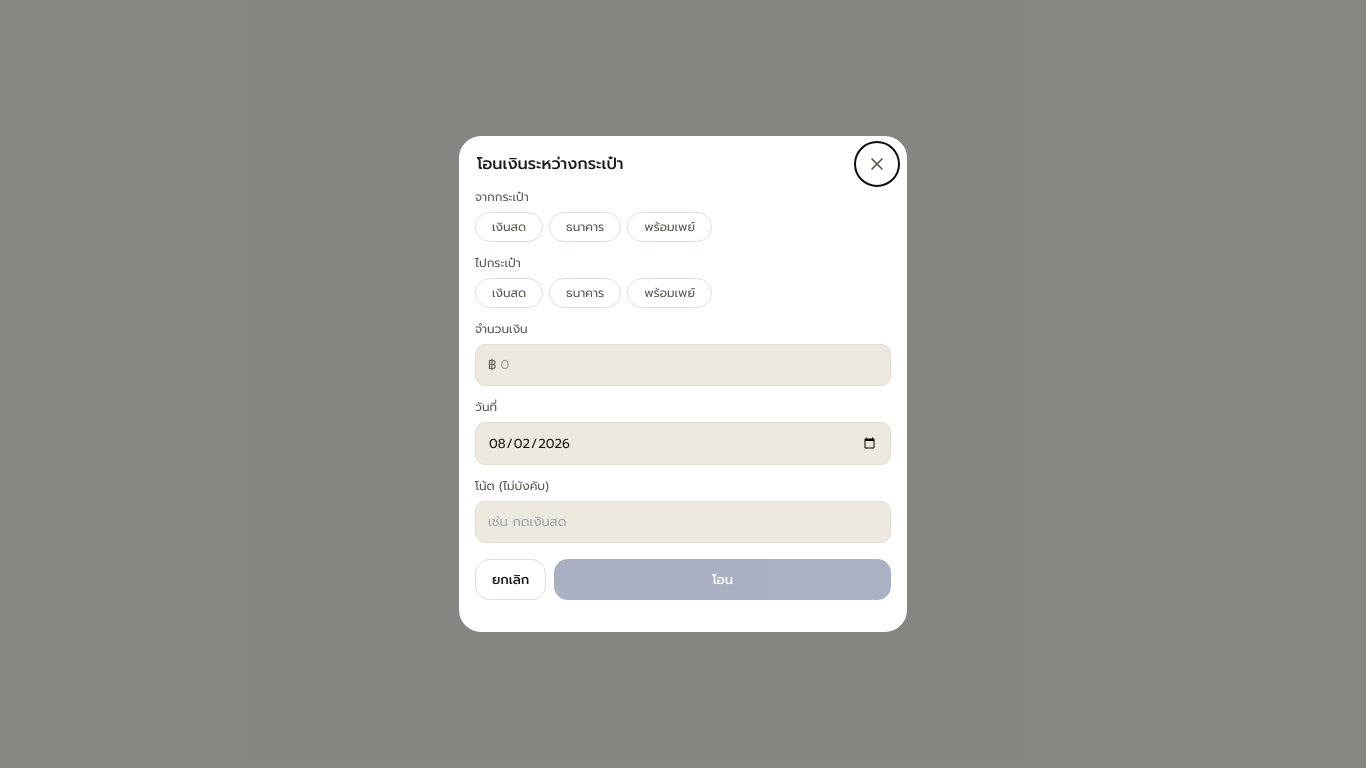
Test case: WalletTransferSheet — form › clears the destination if it becomes equal to a newly chosen source
Click the button "เงินสด" below "จากกระเป๋า". click: point(509, 227)
box: [475,212,543,242]
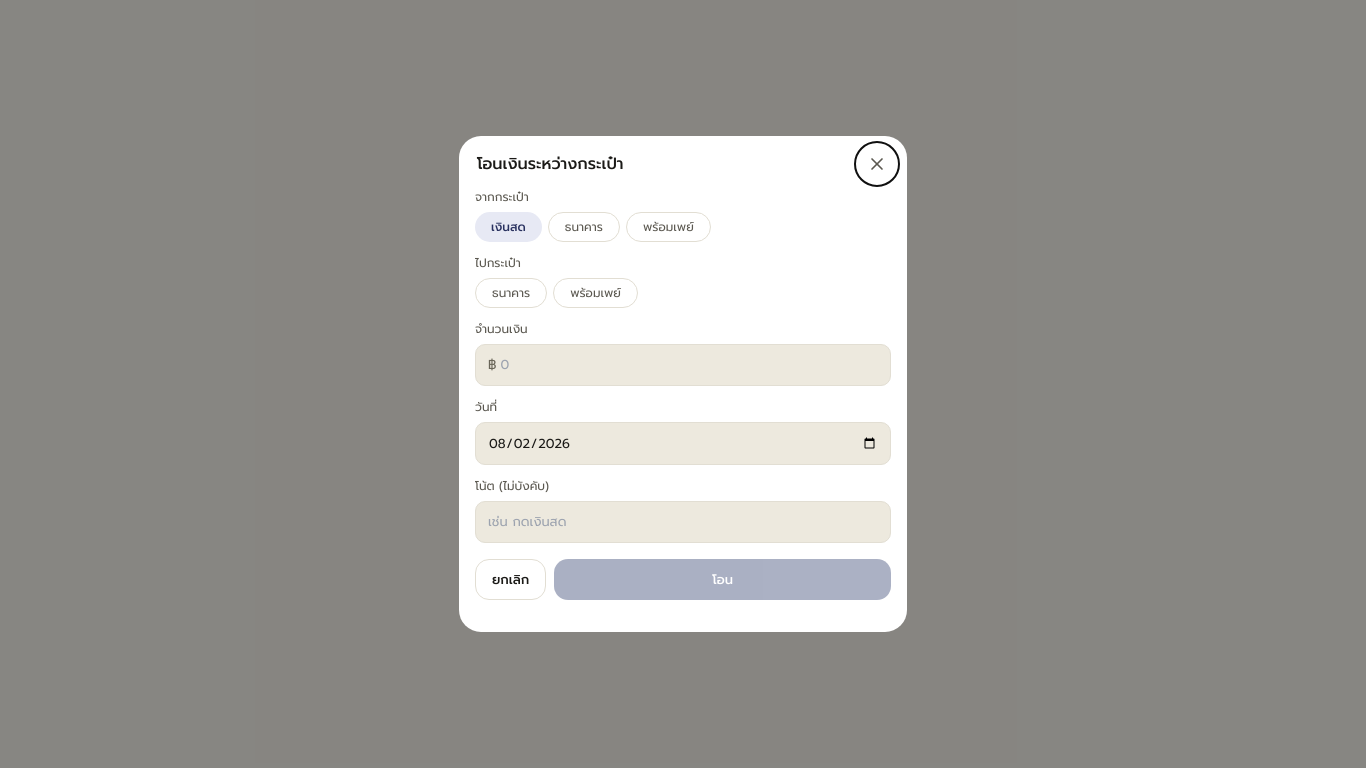
Click the button "ธนาคาร" below "ไปกระเป๋า". click: point(511, 293)
box: [475,278,547,308]
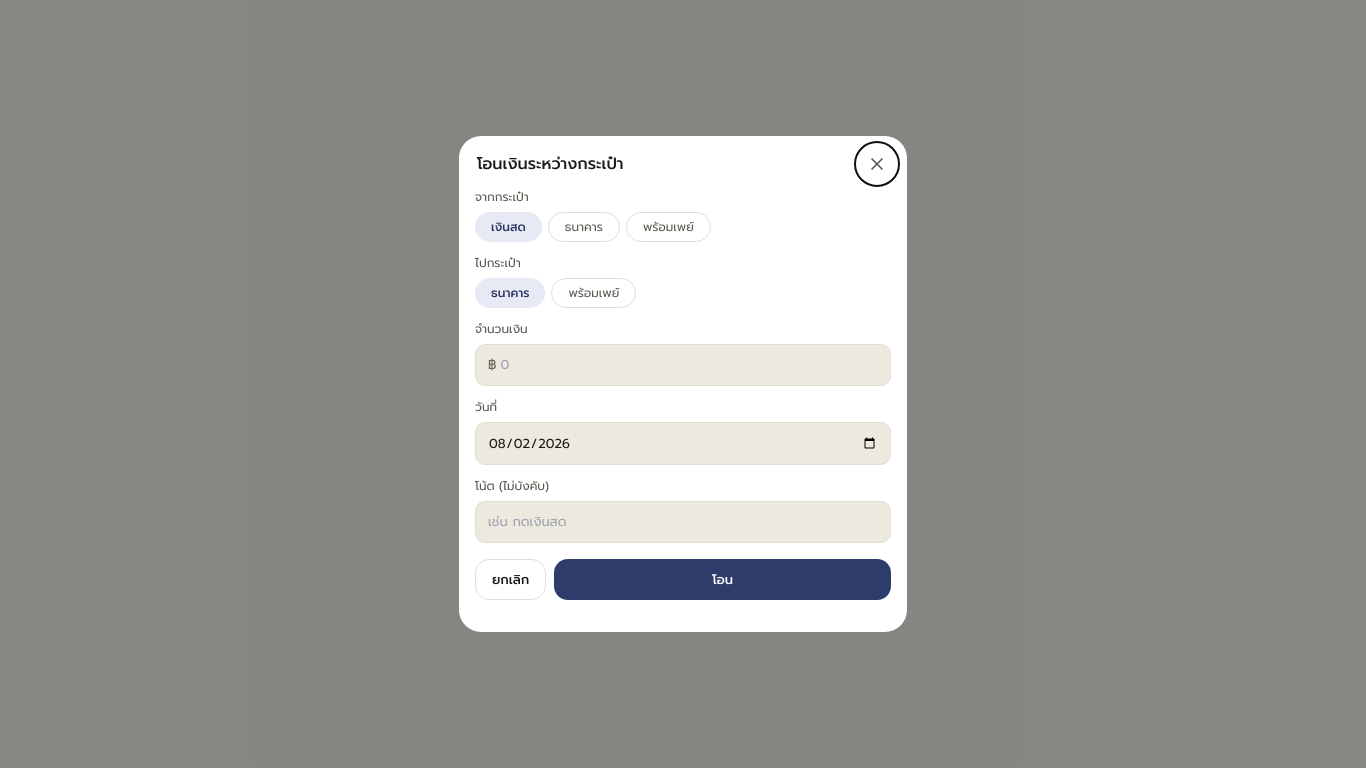
Click the button "ธนาคาร" below "จากกระเป๋า". click: point(584, 227)
box: [548,212,620,242]
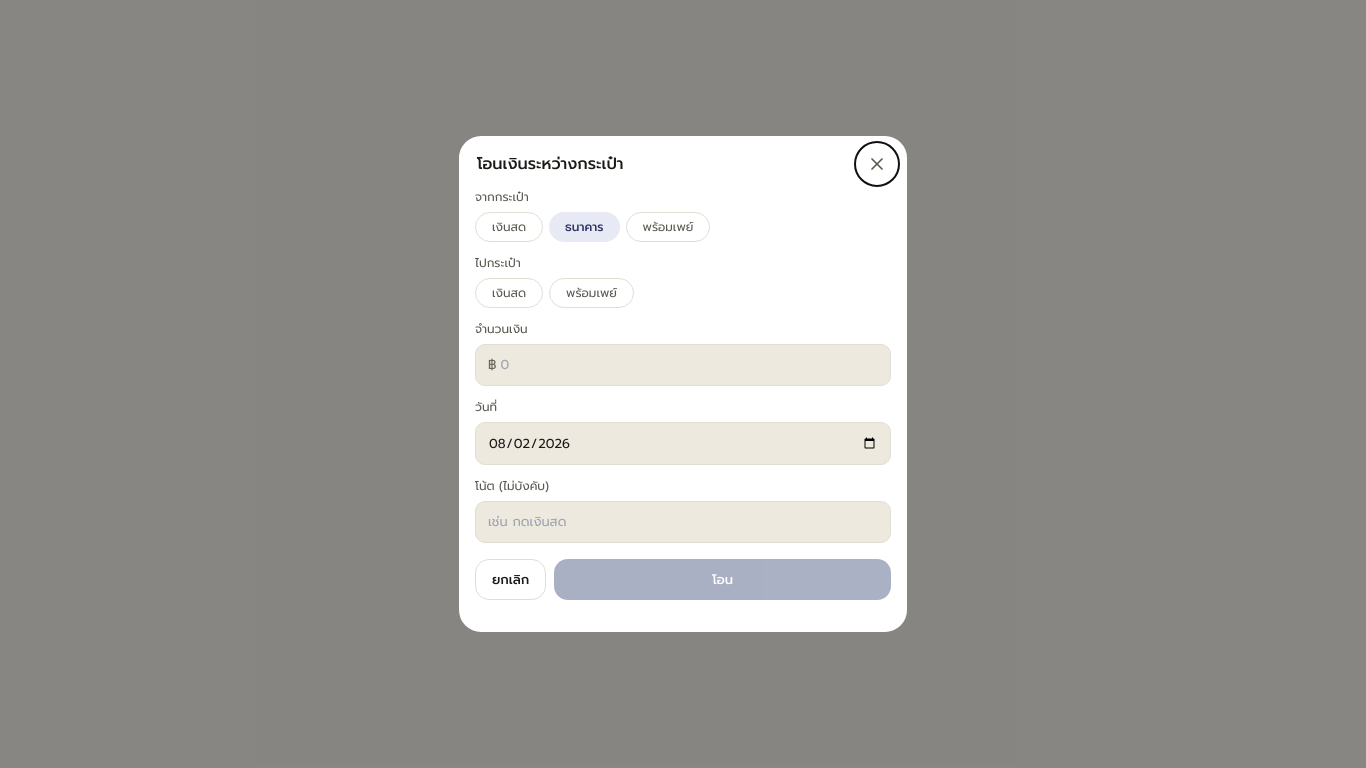
Expected: the button "โอน" is disabled, [554,558,891,600]
